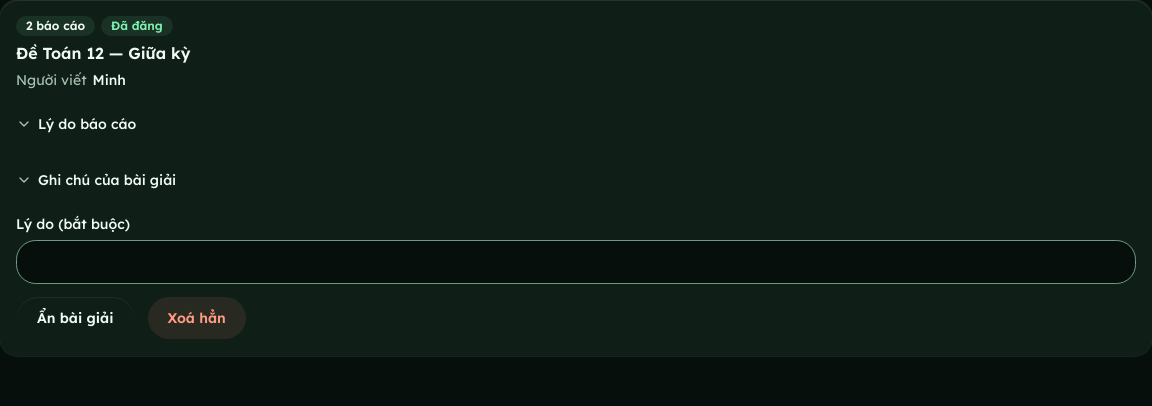
Test case: ReportedSolutionRow — Admin refusal tests (nửa bài giải) › bị rate-limit → câu profile.error.rateLimited với số giây từ server
The width and height of the screenshot is (1152, 406).
Type "Spam" into the field labelled "Lý do (bắt buộc)" at point(576, 262), box [16, 240, 1136, 284]
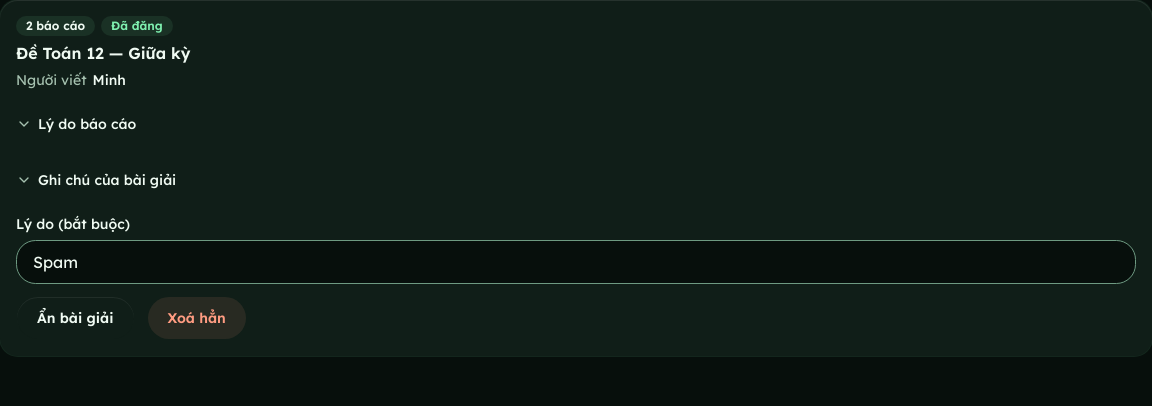
Click the button "Ẩn bài giải" at point(75, 318), box [16, 296, 134, 340]
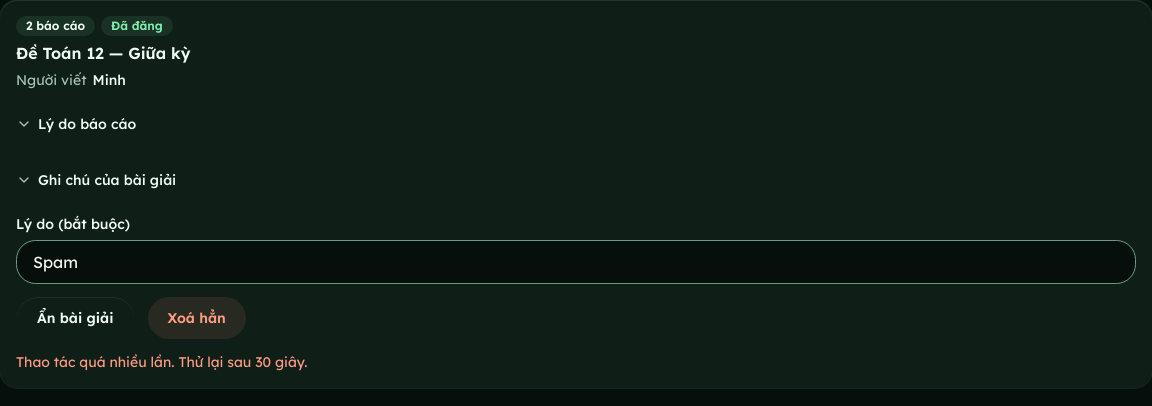
expect the message reads "Thao tác quá nhiều lần. Thử lại sau 30 giây.": met, box [16, 353, 308, 371]
